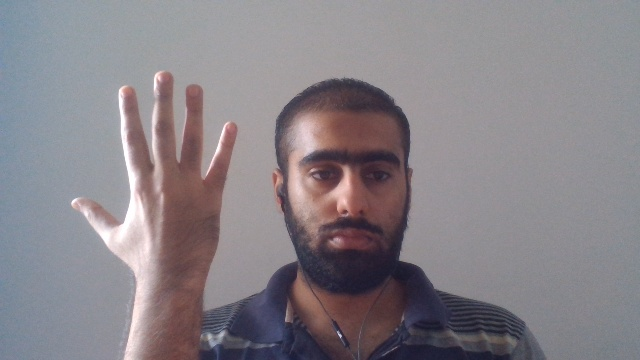paper: (69, 69, 239, 282)
